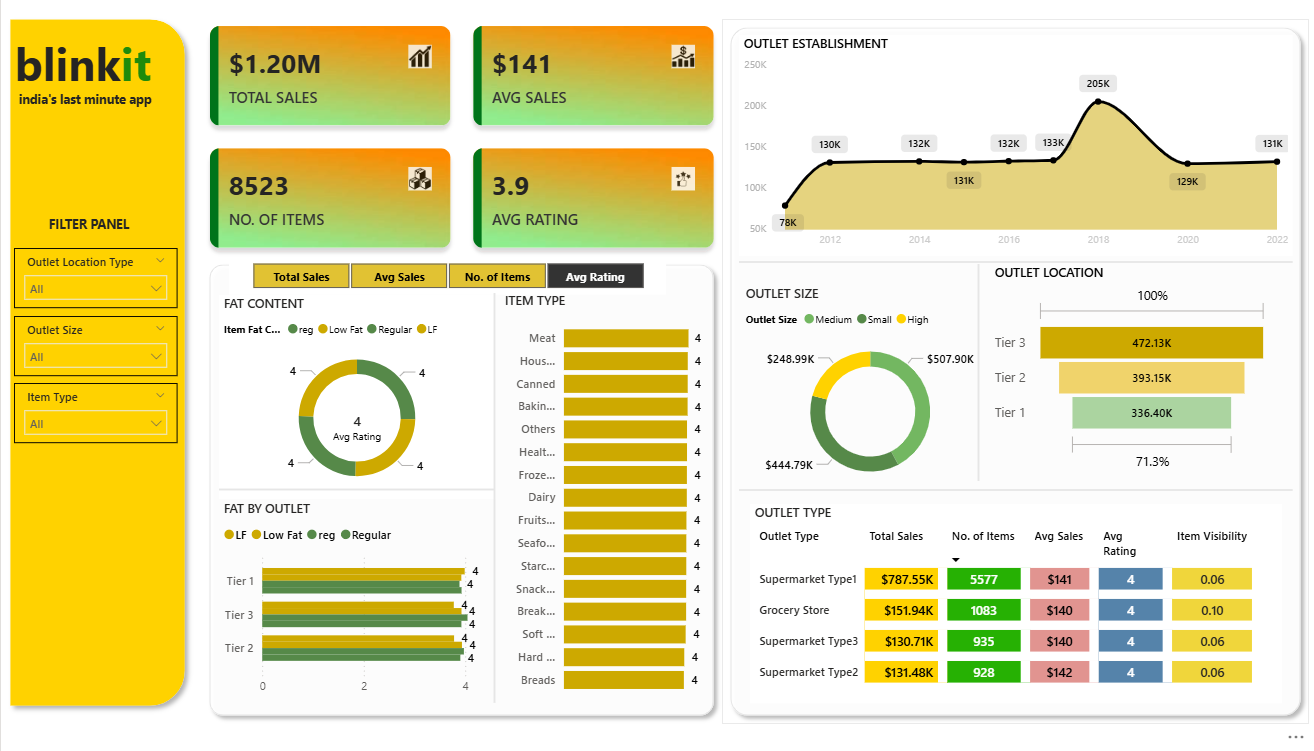

The page's visual inventory and layout, read from the dashboard file:
{"tool":"powerbi","page":{"name":"Page 1","canvas":[1400,800],"ordinal":0},"visuals":[{"type":"shape","box":[0,10.6,205.3,750],"z":0},{"type":"textbox","box":[9.6,28.7,178.7,91.5],"z":1000},{"type":"textbox","box":[13.8,91.5,163.8,28.7],"z":2000},{"type":"cardVisual","fields":{"Data":["BlinkIT Grocery Data.Total Sales","BlinkIT Grocery Data.Avg Sales","BlinkIT Grocery Data.No. of Items","BlinkIT Grocery Data.Avg Rating"]},"box":[205.3,10.6,570.2,270.2],"z":3000},{"type":"shape","box":[212.8,272.3,554.3,497.9],"z":4000},{"type":"donutChart","title":"FAT CONTENT","fields":{"Y":["BlinkIT Grocery Data.Total Sales"],"Category":["BlinkIT Grocery Data.Item Fat Content"]},"box":[231.9,313.8,293.6,217],"z":5000},{"type":"slicer","fields":{"Values":["Metrics.Metrics"]},"box":[242.6,273.4,464.9,40.4],"z":6000},{"type":"cardVisual","fields":{"Data":["BlinkIT Grocery Data.Total Sales"]},"box":[328.7,422.3,100,57.4],"z":7000},{"type":"clusteredBarChart","title":"FAT BY OUTLET","fields":{"Y":["BlinkIT Grocery Data.Total Sales"],"Category":["BlinkIT Grocery Data.Outlet Location Type"],"Series":["BlinkIT Grocery Data.Item Fat Content"]},"box":[231.9,531.9,293.6,216],"z":8000},{"type":"shape","box":[231.9,511.7,293.6,18.1],"z":9000},{"type":"shape","box":[519.1,311.7,11.7,436.2],"z":10000},{"type":"barChart","title":"ITEM TYPE","fields":{"Y":["BlinkIT Grocery Data.Total Sales"],"Category":["BlinkIT Grocery Data.Item Type"]},"box":[530.9,310.6,219.1,437.2],"z":11000},{"type":"shape","box":[767,20.2,624.5,750],"z":12000},{"type":"lineChart","title":"OUTLET ESTABLISHMENT","fields":{"Y":["Sum(BlinkIT Grocery Data.Sales)"],"Category":["BlinkIT Grocery Data.Outlet Establishment Year"]},"box":[785.1,37.2,589.4,235.1],"z":13000},{"type":"shape","box":[785.1,263.8,589.4,29.8],"z":14000},{"type":"donutChart","title":"OUTLET SIZE","fields":{"Y":["BlinkIT Grocery Data.Total Sales"],"Category":["BlinkIT Grocery Data.Outlet Size"]},"box":[787.2,303.2,275,225],"z":15000},{"type":"shape","box":[1028.7,280.9,22.3,230.9],"z":16000},{"type":"funnel","title":"OUTLET LOCATION","fields":{"Y":["Sum(BlinkIT Grocery Data.Sales)"],"Category":["BlinkIT Grocery Data.Outlet Location Type"]},"box":[1052,280.8,300.6,225],"z":17000},{"type":"shape","box":[785.1,506.4,589.4,29.8],"z":18000},{"type":"pivotTable","title":"OUTLET TYPE","fields":{"Rows":["BlinkIT Grocery Data.Outlet Type"],"Values":["BlinkIT Grocery Data.Total Sales","BlinkIT Grocery Data.No. of Items","BlinkIT Grocery Data.Avg Sales","BlinkIT Grocery Data.Avg Rating","Avg(BlinkIT Grocery Data.Item Visibility)"]},"box":[796.8,536.2,566,211.7],"z":19000},{"type":"slicer","fields":{"Values":["BlinkIT Grocery Data.Outlet Location Type"]},"box":[13.8,263.8,174.5,63.8],"z":20000},{"type":"slicer","fields":{"Values":["BlinkIT Grocery Data.Outlet Size"]},"box":[13.8,336.2,174.5,63.8],"z":21000},{"type":"slicer","fields":{"Values":["BlinkIT Grocery Data.Item Type"]},"box":[13.8,407.4,174.5,63.8],"z":22000},{"type":"textbox","box":[45.7,224.5,105.3,28.7],"z":23000}]}

Visuals, with their boxes in screenshot pixels (x1, y1, x2, y2), scaled from the page's 1400x800 canvas onto the 1314x751 screenshot:
shape: <region>0, 10, 193, 714</region>
textbox: <region>9, 27, 177, 113</region>
textbox: <region>13, 86, 167, 113</region>
cardVisual - BlinkIT Grocery Data.Total Sales x BlinkIT Grocery Data.Avg Sales: <region>193, 10, 728, 264</region>
shape: <region>200, 256, 720, 723</region>
"FAT CONTENT" donutChart: <region>218, 295, 493, 498</region>
slicer - Metrics.Metrics: <region>228, 257, 664, 295</region>
cardVisual - BlinkIT Grocery Data.Total Sales: <region>309, 396, 402, 450</region>
"FAT BY OUTLET" clusteredBarChart: <region>218, 499, 493, 702</region>
shape: <region>218, 480, 493, 497</region>
shape: <region>487, 293, 498, 702</region>
"ITEM TYPE" barChart: <region>498, 292, 704, 702</region>
shape: <region>720, 19, 1306, 723</region>
"OUTLET ESTABLISHMENT" lineChart: <region>737, 35, 1290, 256</region>
shape: <region>737, 248, 1290, 276</region>
"OUTLET SIZE" donutChart: <region>739, 285, 997, 496</region>
shape: <region>966, 264, 986, 480</region>
"OUTLET LOCATION" funnel: <region>987, 264, 1270, 475</region>
shape: <region>737, 475, 1290, 503</region>
"OUTLET TYPE" pivotTable: <region>748, 503, 1279, 702</region>
slicer - BlinkIT Grocery Data.Outlet Location Type: <region>13, 248, 177, 308</region>
slicer - BlinkIT Grocery Data.Outlet Size: <region>13, 316, 177, 376</region>
slicer - BlinkIT Grocery Data.Item Type: <region>13, 382, 177, 442</region>
textbox: <region>43, 211, 142, 238</region>
